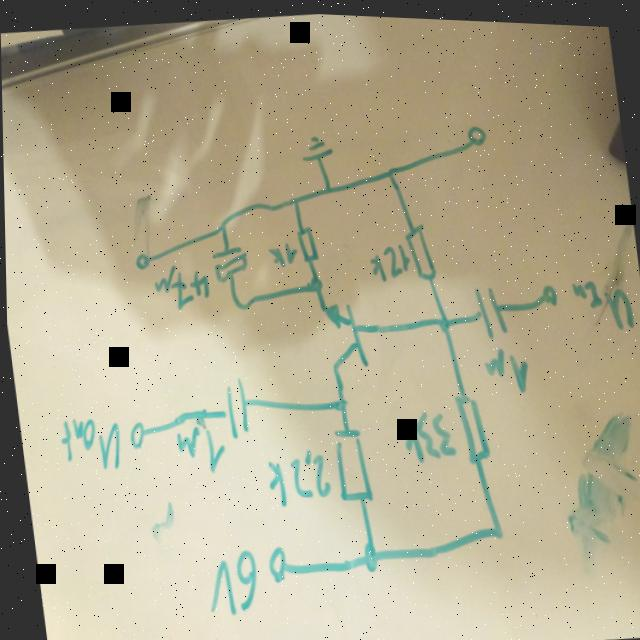capacitor: (211, 372, 260, 439), (464, 276, 513, 339), (208, 240, 249, 285)
ground: (296, 125, 337, 165)
junction: (357, 537, 381, 573), (304, 272, 324, 294), (227, 291, 246, 313), (434, 308, 452, 331), (487, 519, 506, 539), (380, 157, 397, 178), (331, 391, 348, 412), (212, 217, 229, 235), (287, 190, 300, 206), (321, 180, 334, 195)
resistor: (327, 421, 373, 504), (447, 384, 491, 464), (402, 218, 438, 283), (293, 221, 318, 261)
terminal: (258, 540, 291, 584), (122, 419, 147, 452), (463, 118, 488, 146), (535, 278, 559, 306), (131, 247, 150, 274)
text: (259, 440, 332, 510), (53, 410, 124, 478), (199, 543, 263, 618), (567, 266, 636, 333), (393, 402, 456, 465), (149, 259, 211, 313), (169, 422, 226, 477), (478, 336, 532, 393), (364, 238, 411, 282), (264, 237, 299, 267)
transistor: (312, 295, 373, 376)
